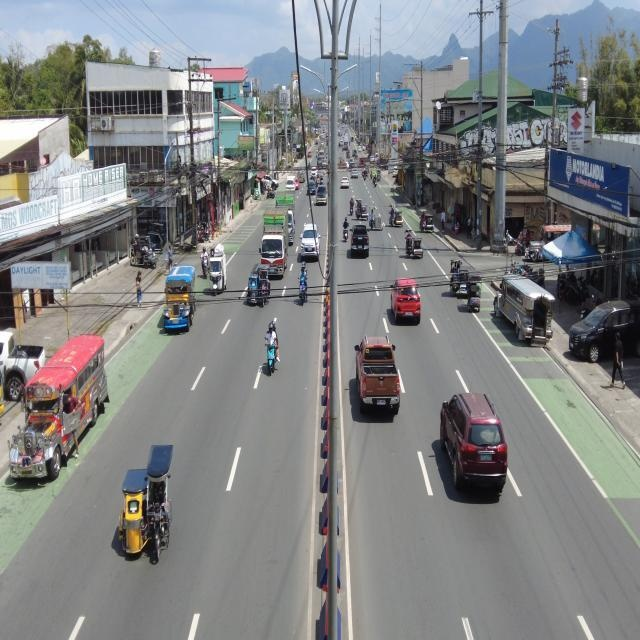Motorcycle: (261, 325, 282, 378), (298, 266, 309, 301)
